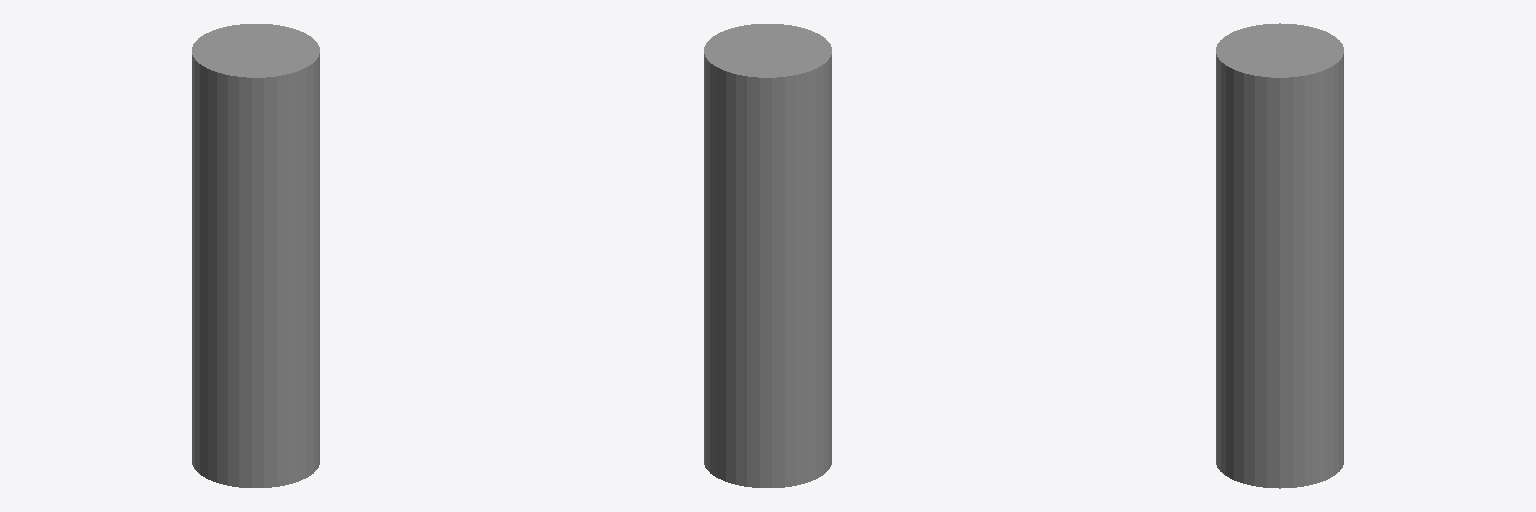
Rendered from fuselage.obj.
The picture shows the model from 3 angles: view 1: azimuth 30°, elevation 25°; view 2: azimuth 150°, elevation 25°; view 3: azimuth 270°, elevation 25°; orthographic projection.
Parts seen in each view (by area): view 1: Cylinder; view 2: Cylinder; view 3: Cylinder.
Boxes of the visible parts, x1,y1,x2,y2 form: Cylinder: [192, 24, 319, 487]; Cylinder: [704, 24, 831, 487]; Cylinder: [1216, 23, 1343, 488].
Bounding box in the file's own units: 2 × 7.04 × 2.